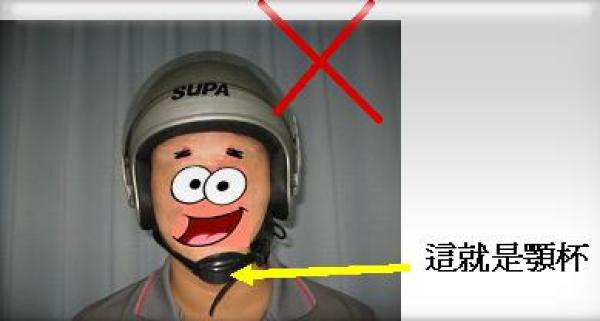helmet: (124, 57, 298, 214)
